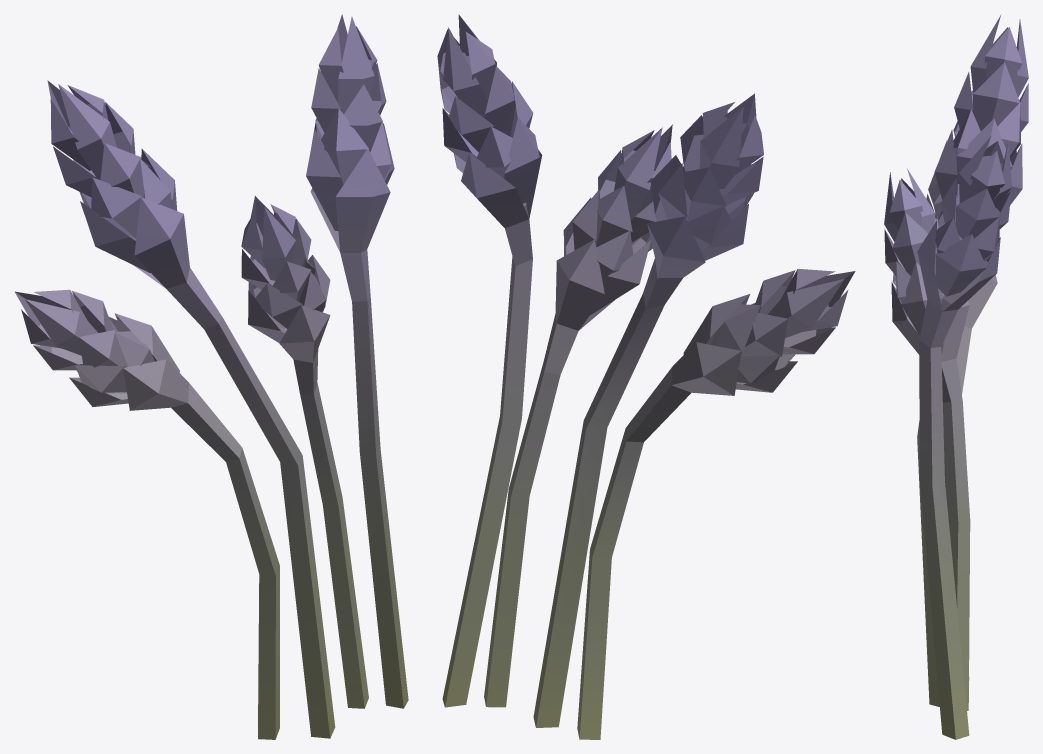
File: herbHermitGrass.fbx
The picture shows the model from 3 angles, left to right: view 1: azimuth 30°, elevation 25°; view 2: azimuth 150°, elevation 25°; view 3: azimuth 270°, elevation 25°; orthographic projection. The views are drawn at different scales.
Visible parts, largest first — view 1: herbHermitGrass; view 2: herbHermitGrass; view 3: herbHermitGrass.
Boxes of the visible parts, left/top/right/bottom form: herbHermitGrass: left=15, top=14, right=408, bottom=739; herbHermitGrass: left=437, top=14, right=855, bottom=739; herbHermitGrass: left=884, top=14, right=1028, bottom=739.
Size of the model in its own units: 1.31 by 2.21 by 0.487.
